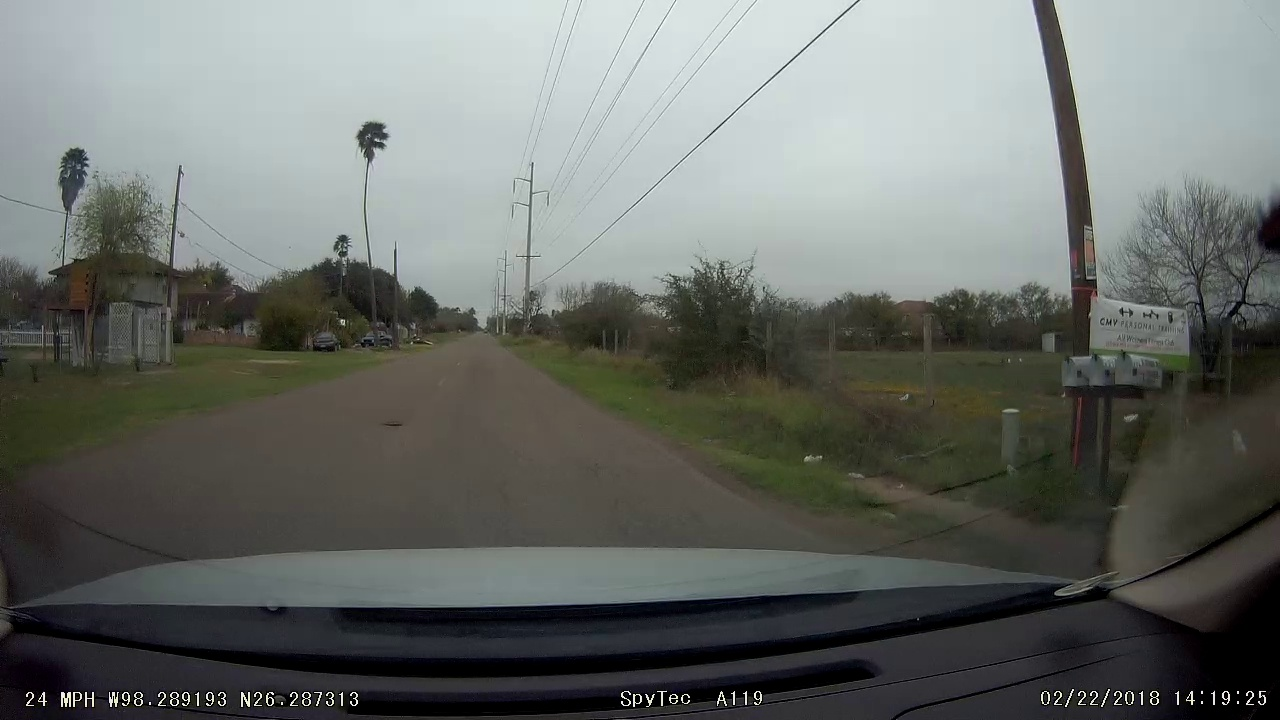alligatorCrack: (587, 455, 690, 537), (476, 498, 559, 541)
pothole: (370, 407, 417, 440)
